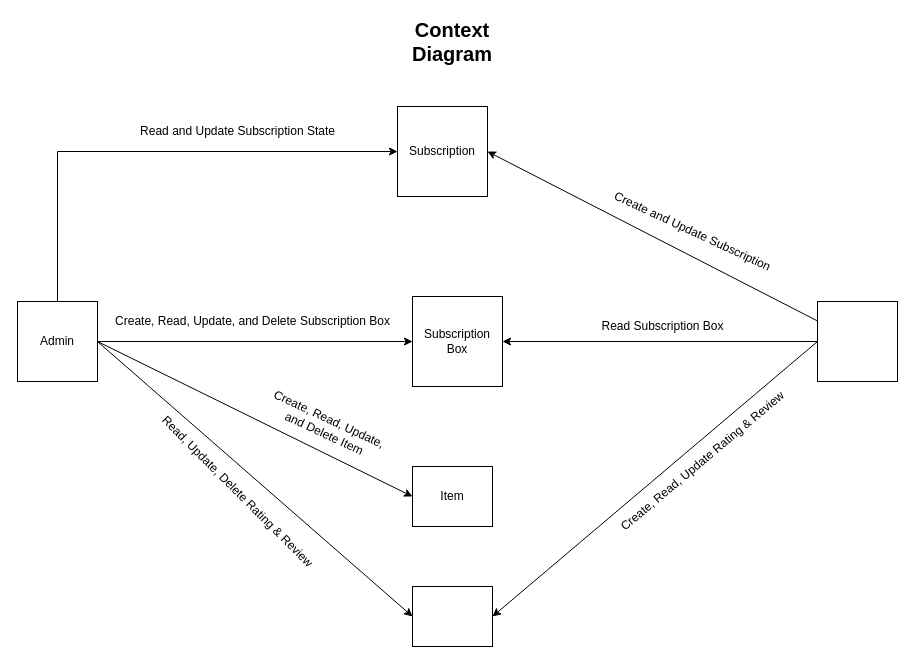
The diagram is 915 pixels wide and 664 high, and some of its shapes have lost their labels. The shapes that lost their labels are listed below. From the top down, each one's centre as x and y in pixels, then its label:
(x=857, y=341): Customer
(x=452, y=616): Rating & Review
